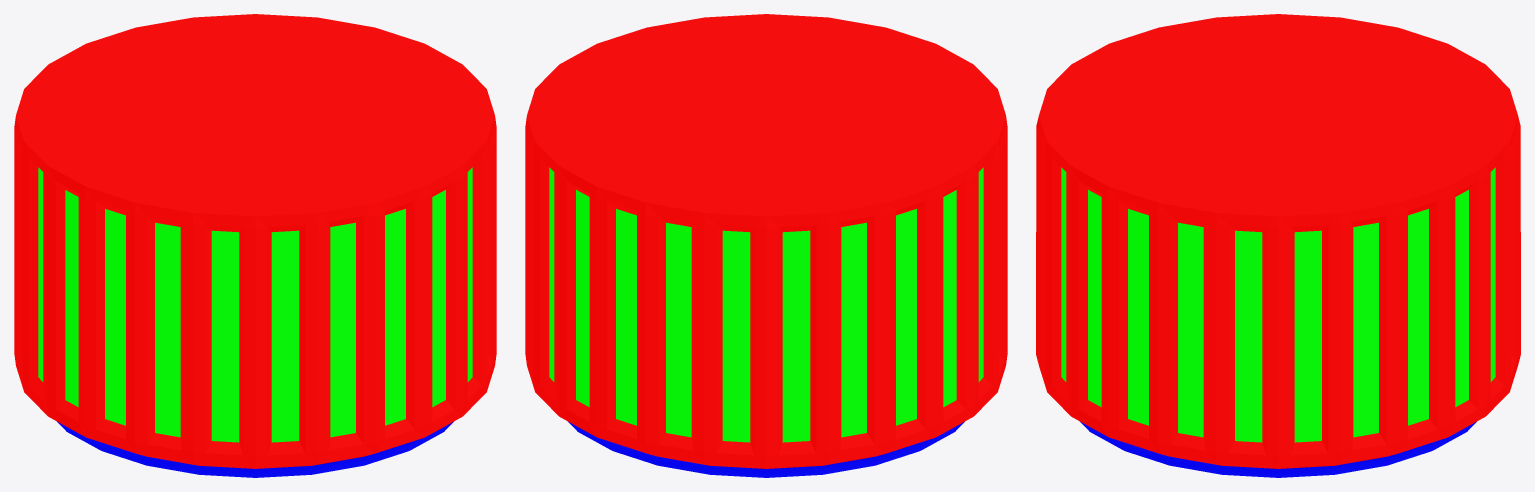
Rendered from DroneWall_TowerMid_001.FBX.
The picture shows the model from 3 angles, left to right: view 1: azimuth 30°, elevation 25°; view 2: azimuth 150°, elevation 25°; view 3: azimuth 270°, elevation 25°; orthographic projection.
Visible parts, largest first — view 1: TowerMid; view 2: TowerMid; view 3: TowerMid.
Part boxes in pixels (box(x1,y1,x2,y2)): TowerMid: box(14, 14, 496, 477); TowerMid: box(525, 14, 1007, 477); TowerMid: box(1036, 14, 1520, 477).
Size of the model in its own units: 447 by 449 by 277.
